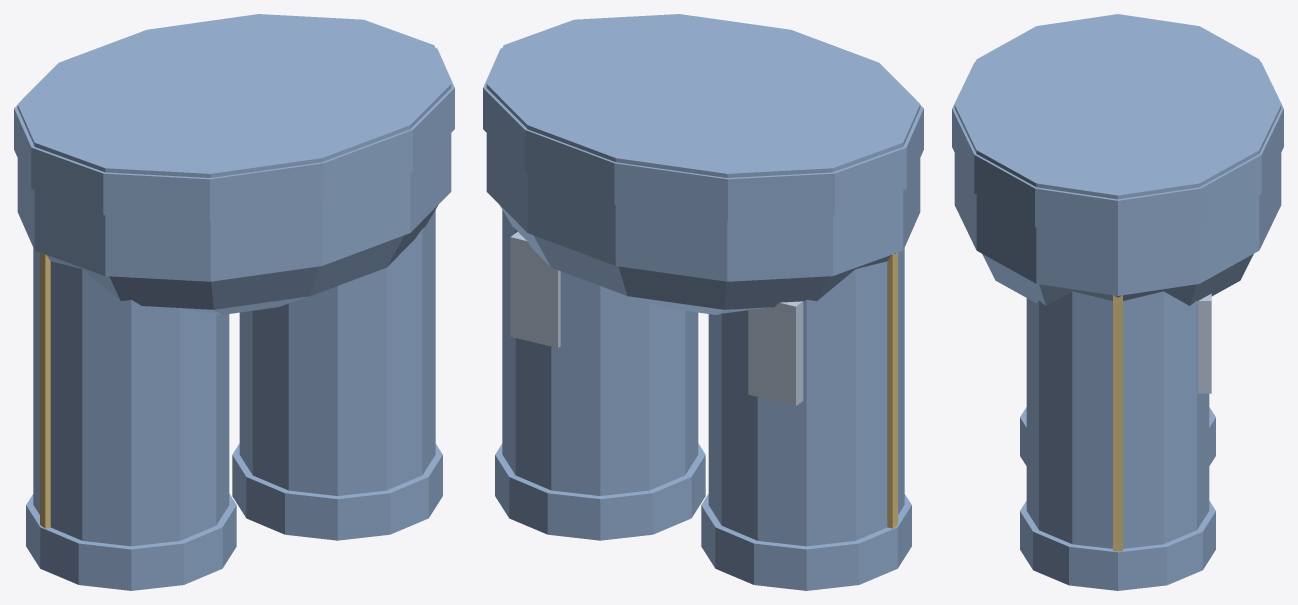
Rendered from pants_jeans.glb.
3 views of the same model, side by side, from view 1: azimuth 30°, elevation 25°; view 2: azimuth 150°, elevation 25°; view 3: azimuth 270°, elevation 25° (orthographic). The views are drawn at different scales.
Visible parts, largest first — view 1: Torso, LegL, LegR; view 2: Torso, LegL, LegR; view 3: Torso, LegR, LegL.
Boxes of the visible parts, left/top/right/bottom form: Torso: left=14, top=14, right=454, bottom=314; LegL: left=26, top=248, right=236, bottom=590; LegR: left=232, top=210, right=442, bottom=540; Torso: left=483, top=14, right=923, bottom=314; LegL: left=701, top=248, right=911, bottom=590; LegR: left=495, top=210, right=705, bottom=540; Torso: left=952, top=14, right=1283, bottom=305; LegR: left=1020, top=291, right=1215, bottom=590; LegL: left=1020, top=407, right=1215, bottom=465.
Bounding box in the file's own units: 0.512 × 0.515 × 0.3891.
